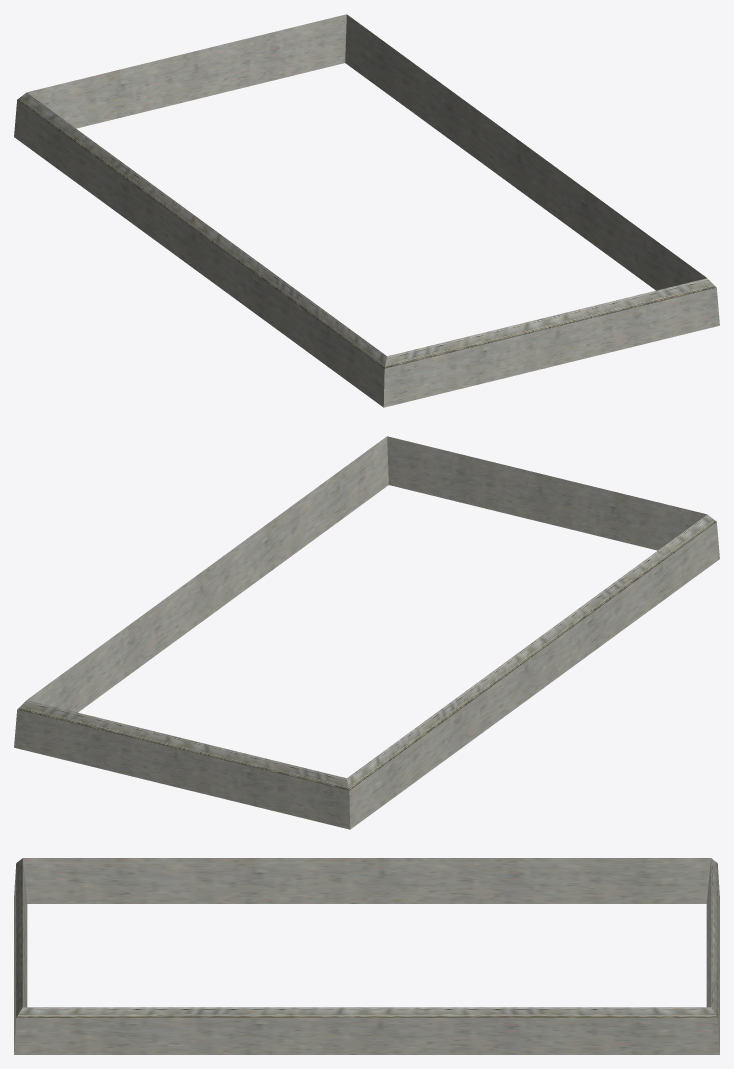
File: mun_all_landing_pad_shuttle_l1.fbx
The picture shows the model from 3 angles, top to bottom: view 1: azimuth 30°, elevation 25°; view 2: azimuth 150°, elevation 25°; view 3: azimuth 270°, elevation 25°; orthographic projection. The views are drawn at different scales.
Visible parts, largest first — view 1: mesh_node; view 2: mesh_node; view 3: mesh_node.
Part boxes in pixels (left/top/right/bottom): mesh_node: left=14, top=14, right=719, bottom=407; mesh_node: left=14, top=436, right=719, bottom=829; mesh_node: left=14, top=858, right=719, bottom=1054.
Bounding box in the file's own units: 10.5 × 1.38 × 20.
Materials: 1 (1 with a texture image).
